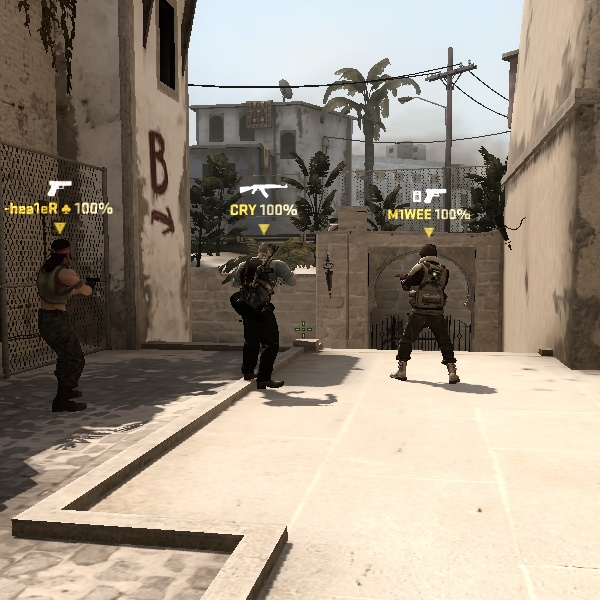t_body: (25, 232, 116, 412), (226, 239, 304, 390), (388, 239, 468, 385)
t_head: (40, 233, 83, 273), (410, 239, 444, 272), (251, 237, 281, 267)
